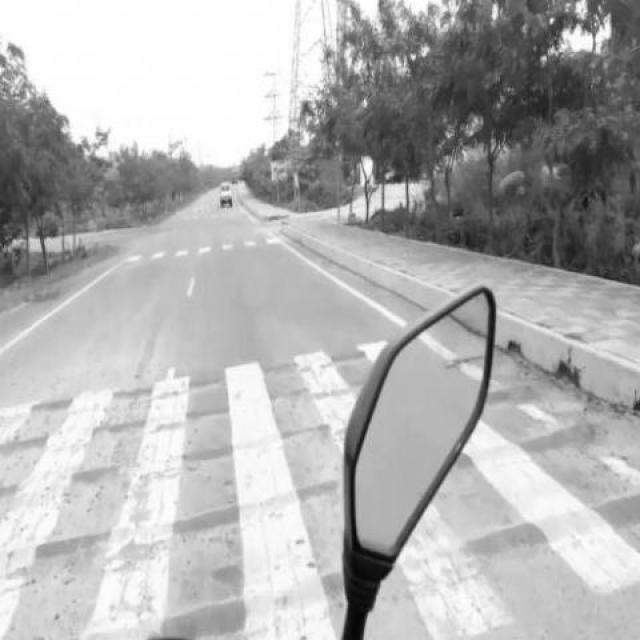Speed Bump: (0, 470, 343, 558), (0, 414, 344, 500), (0, 375, 347, 448), (0, 573, 341, 638), (0, 334, 351, 386), (438, 494, 638, 560), (472, 420, 622, 470), (493, 370, 566, 404)
